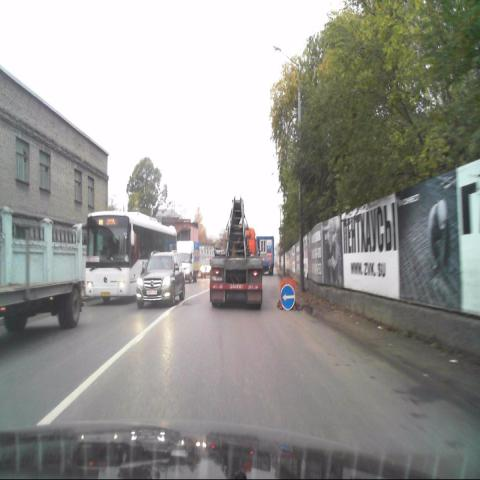4_1_2_2: (280, 284, 295, 310)
